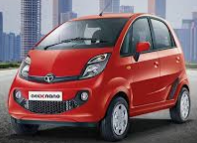car: (6, 13, 191, 141)
